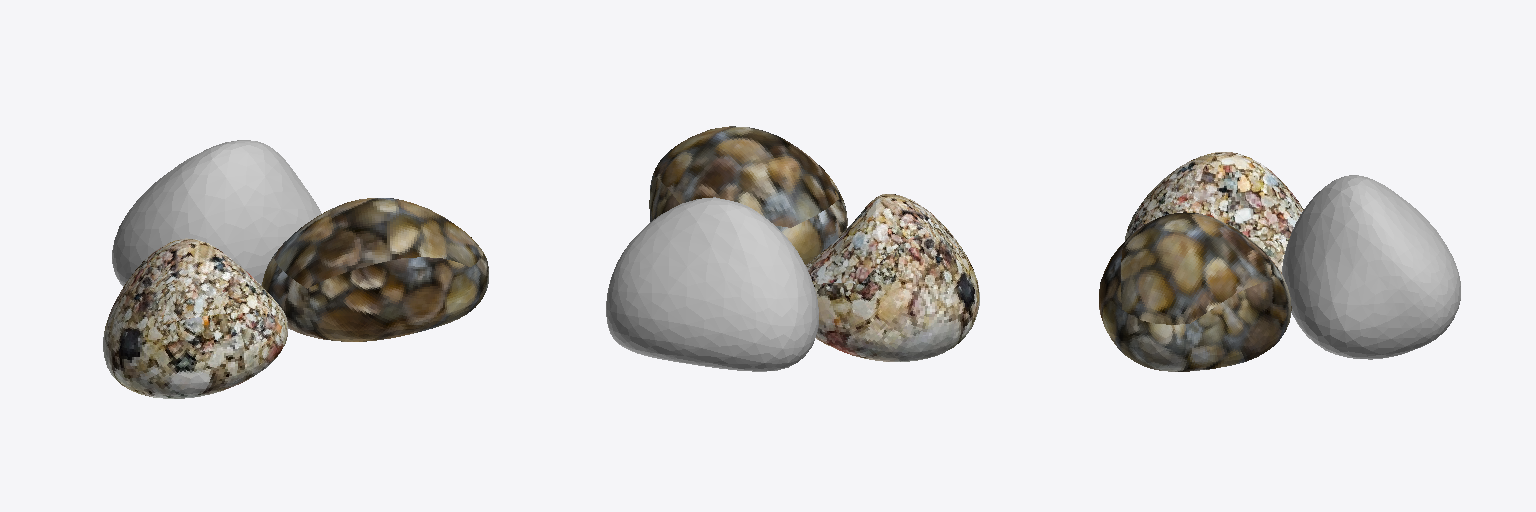
The picture shows the model from 3 angles: view 1: azimuth 30°, elevation 25°; view 2: azimuth 150°, elevation 25°; view 3: azimuth 270°, elevation 25°; orthographic projection.
Visible parts, largest first — view 1: Icosphere.003; view 2: Icosphere.003; view 3: Icosphere.003.
Part boxes in pixels (x1,y1,x2,y2): Icosphere.003: (103,140,488,398); Icosphere.003: (606,126,979,371); Icosphere.003: (1099,152,1460,371).
Size of the model in its own units: 0.9839 by 0.4432 by 0.9132.
3 materials, 2 textured.